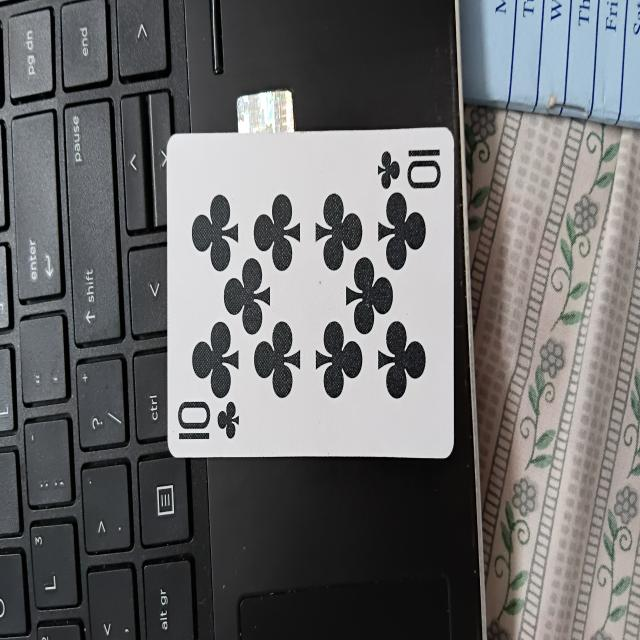10C: (166, 130, 455, 458)
